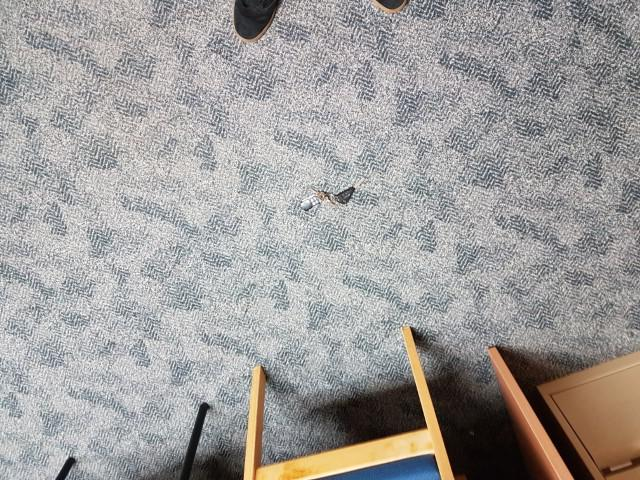key: (335, 175, 367, 207)
